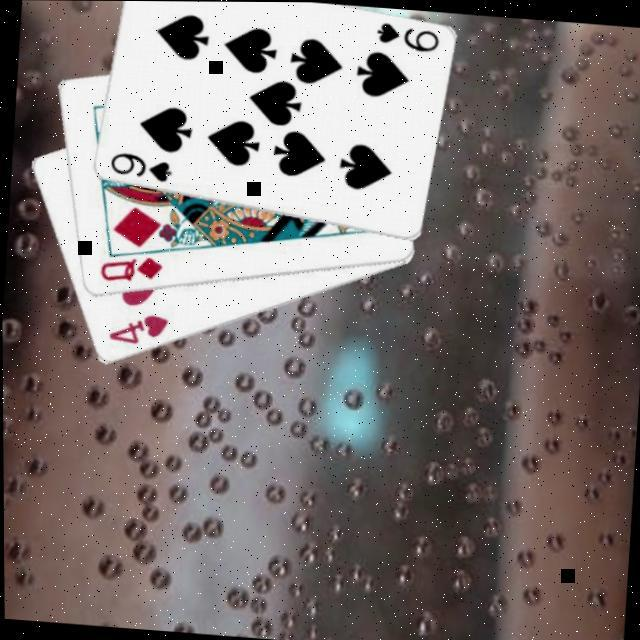4H: (106, 306, 172, 348)
9S: (373, 16, 444, 53), (106, 146, 176, 183)
QD: (97, 248, 167, 287)
